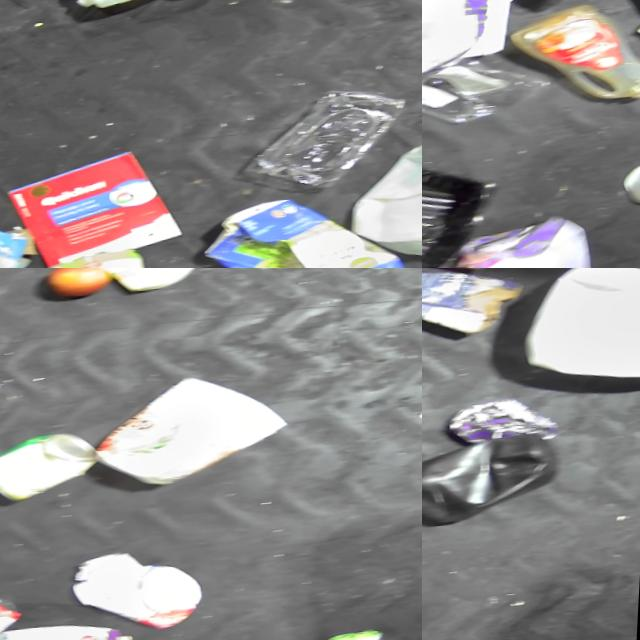can: (74, 545, 211, 640), (0, 431, 102, 508)
milk_jug: (520, 268, 640, 400), (364, 127, 422, 263), (69, 268, 203, 303)
non_white_jug: (507, 2, 640, 120), (422, 437, 570, 542), (422, 0, 539, 92), (454, 218, 603, 268)
plastic_bottle: (431, 0, 623, 22)
